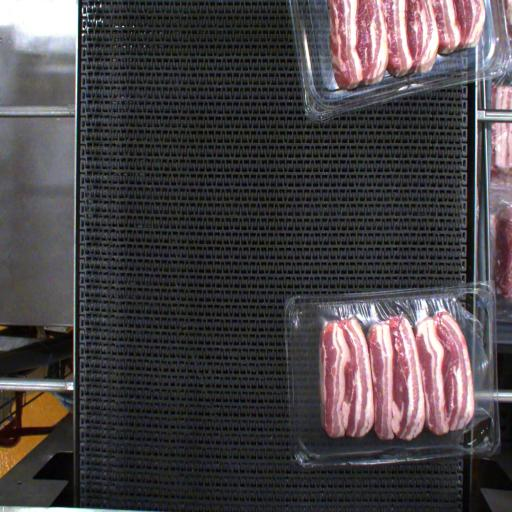unsealed: (301, 297, 495, 448)
